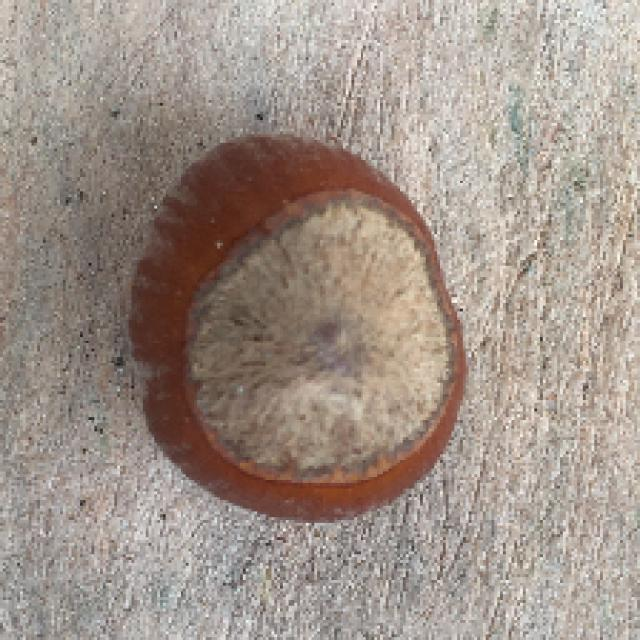qualityHazelnut: (108, 117, 478, 534)
